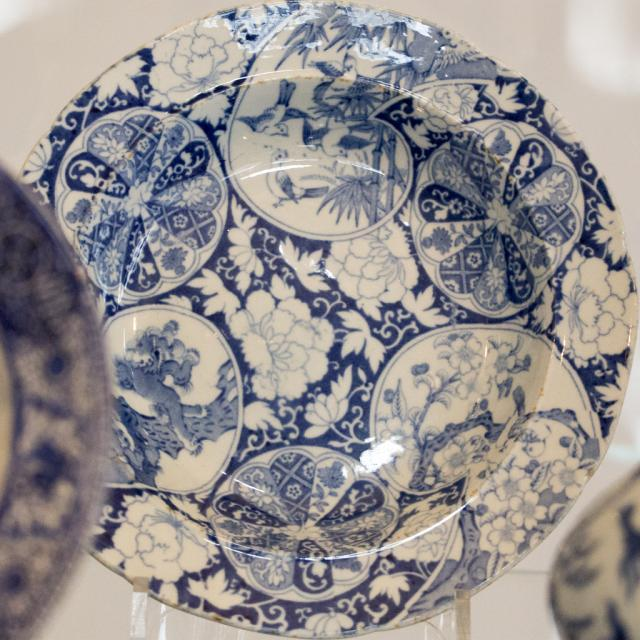ceramic plate: (61, 8, 640, 640)
